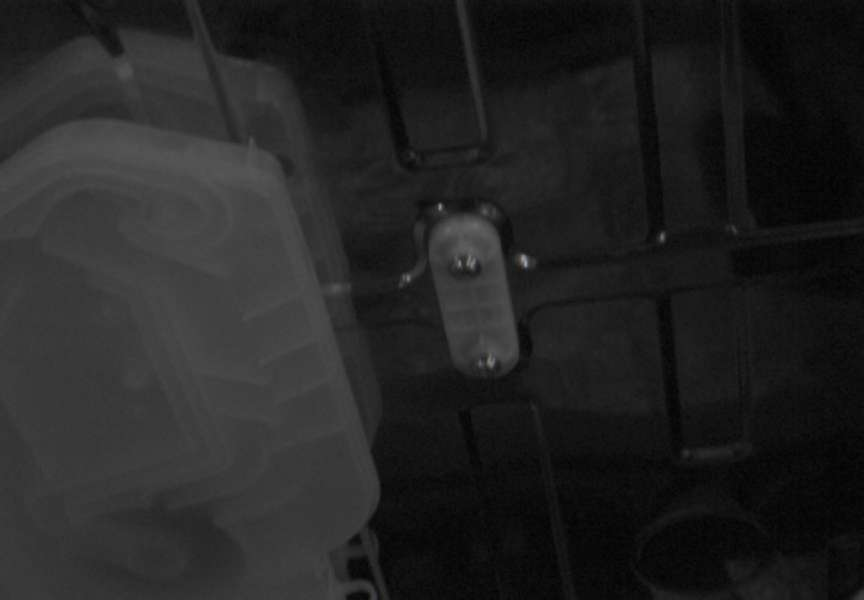screw: (449, 253, 482, 279), (473, 353, 501, 378)
